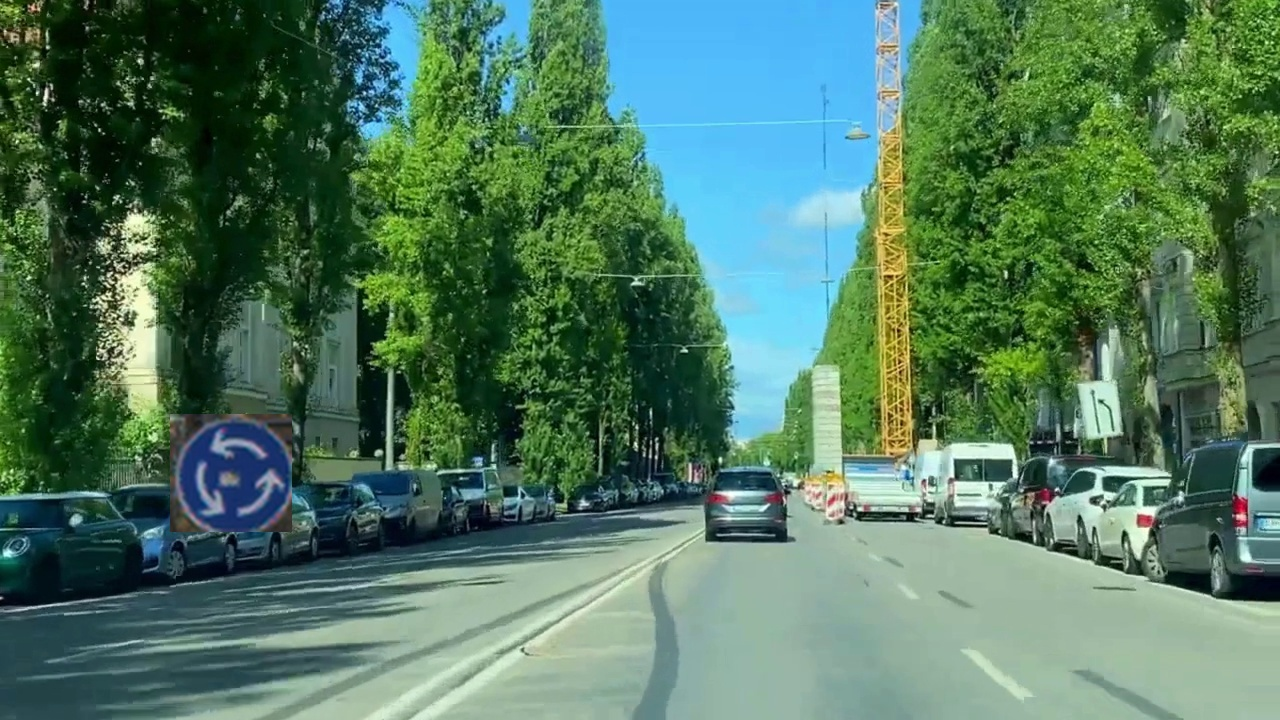Roundabout: (170, 414, 292, 532)
